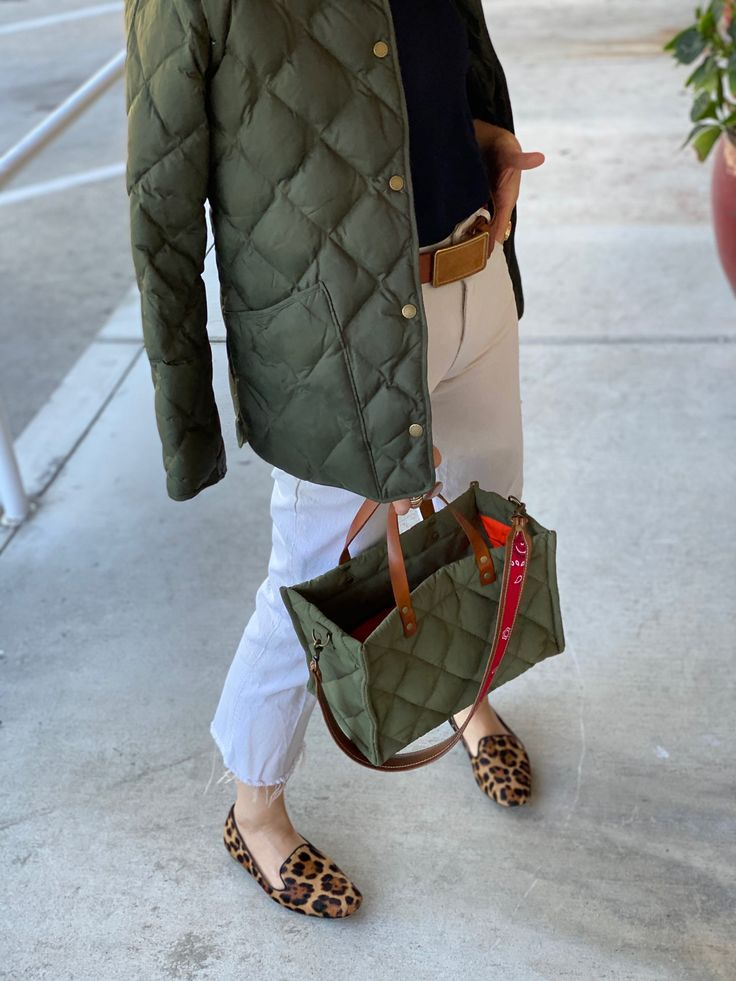cuero: (308, 484, 530, 773)
